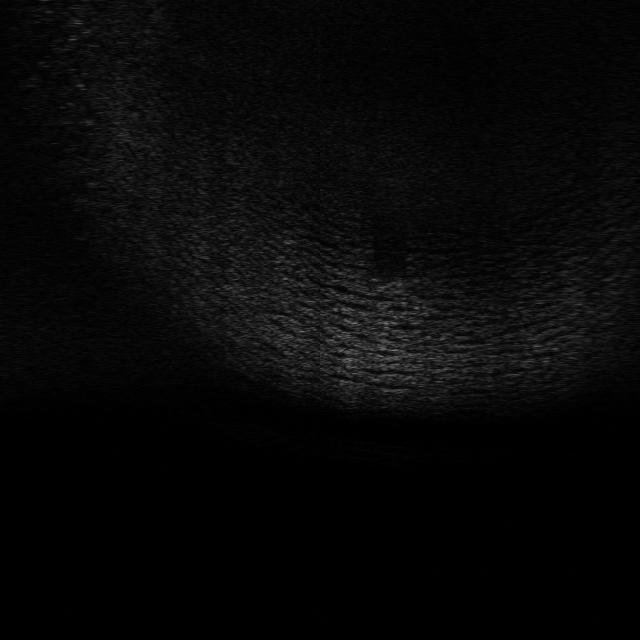cube: (371, 270, 408, 298)
